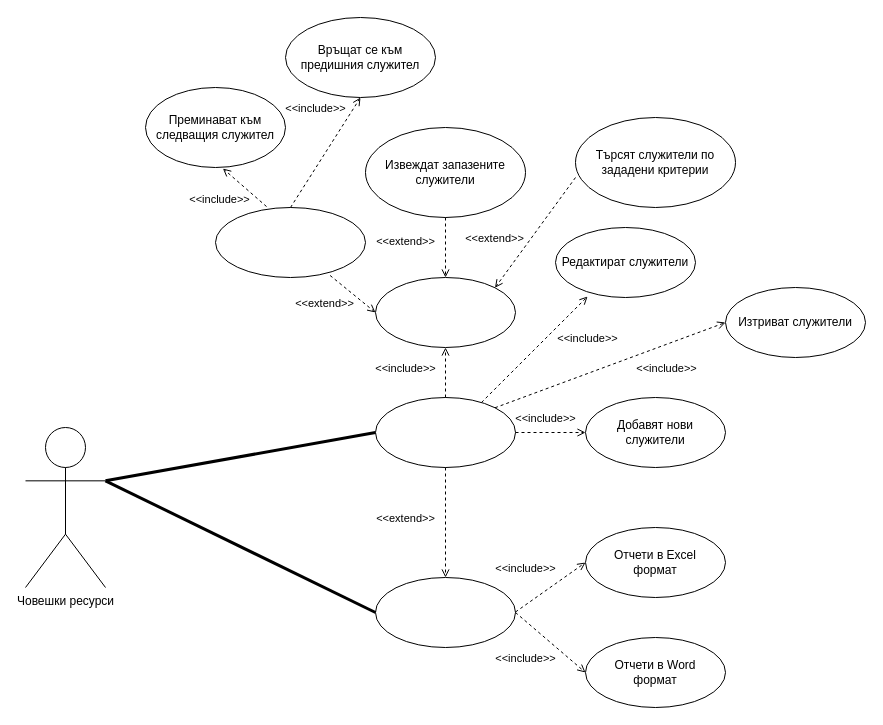
Image size: 883x725. Some labels were removed from this diagram. The centre of each missing label's shape, as x and y in pixels:
"Запазват служители" belongs at (445,312).
"Прелистват отделните служители" belongs at (290,242).
"Създават отчети" belongs at (445,612).
"Управляват служители" belongs at (445,432).
